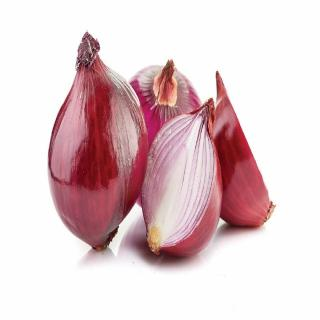Bawang Merah: (48, 31, 150, 252), (142, 98, 224, 259), (212, 71, 277, 229), (129, 59, 203, 152)
